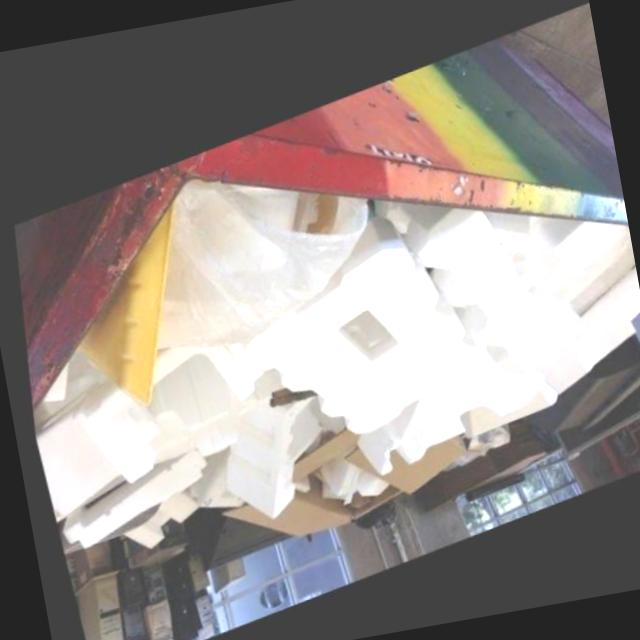xop: (237, 212, 461, 430), (366, 196, 573, 372), (219, 363, 318, 514), (59, 442, 202, 540), (538, 261, 640, 393)
